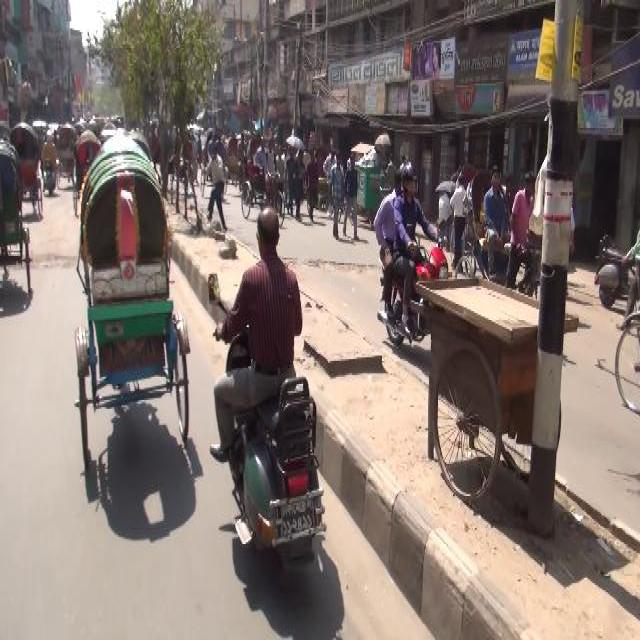motorbike: (374, 164, 450, 366)
rickshaw: (68, 128, 192, 473), (0, 140, 34, 300), (239, 132, 287, 224), (9, 121, 43, 226), (311, 145, 335, 221), (222, 134, 244, 193)
scooter: (206, 200, 328, 579), (40, 125, 60, 199)
wheelbarrow: (354, 151, 392, 229)
